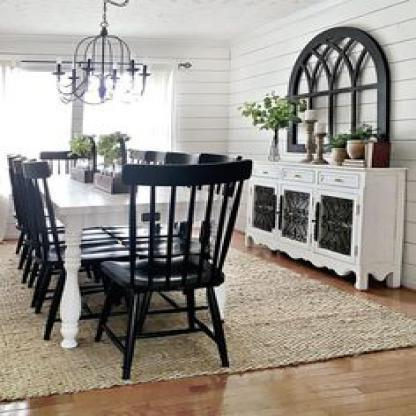table: (12, 165, 237, 350)
